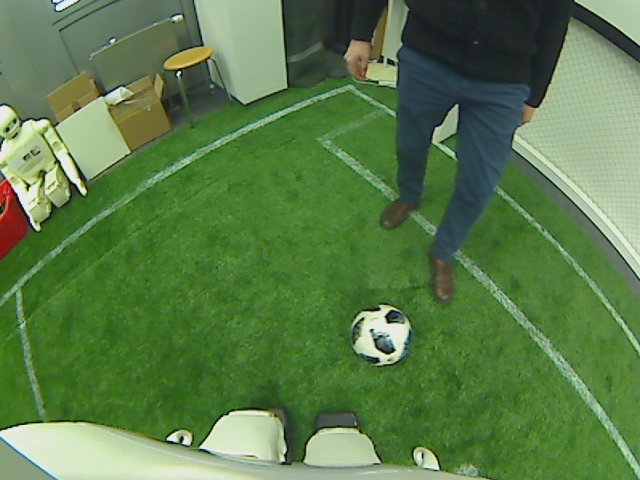ball: (349, 304, 412, 367)
